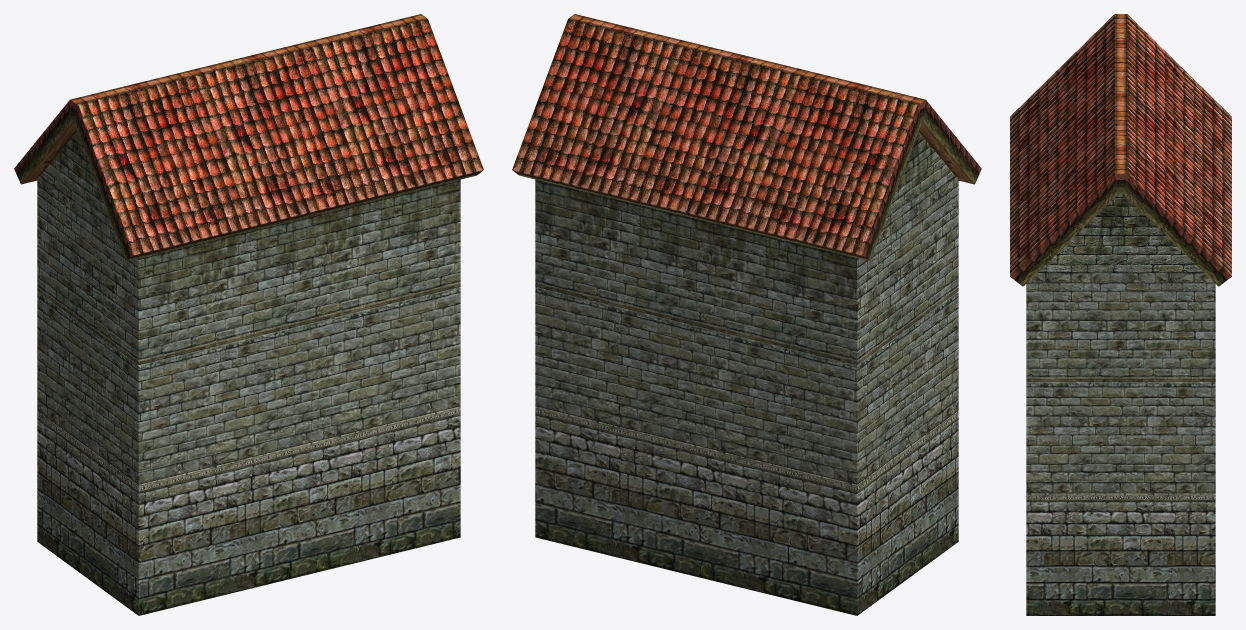
3 renders of one model, left to right at view 1: azimuth 30°, elevation 25°; view 2: azimuth 150°, elevation 25°; view 3: azimuth 270°, elevation 25°, orthographic. The views are drawn at different scales.
Visible parts, largest first — view 1: cc08-col; view 2: cc08-col; view 3: cc08-col.
Part boxes in pixels (box(x1,y1,x2,y2)): cc08-col: box(14, 14, 483, 615); cc08-col: box(512, 14, 981, 615); cc08-col: box(1010, 14, 1231, 615).
Size of the model in its own units: 12 by 15.69 by 7.03.
8 materials, 8 textured.
